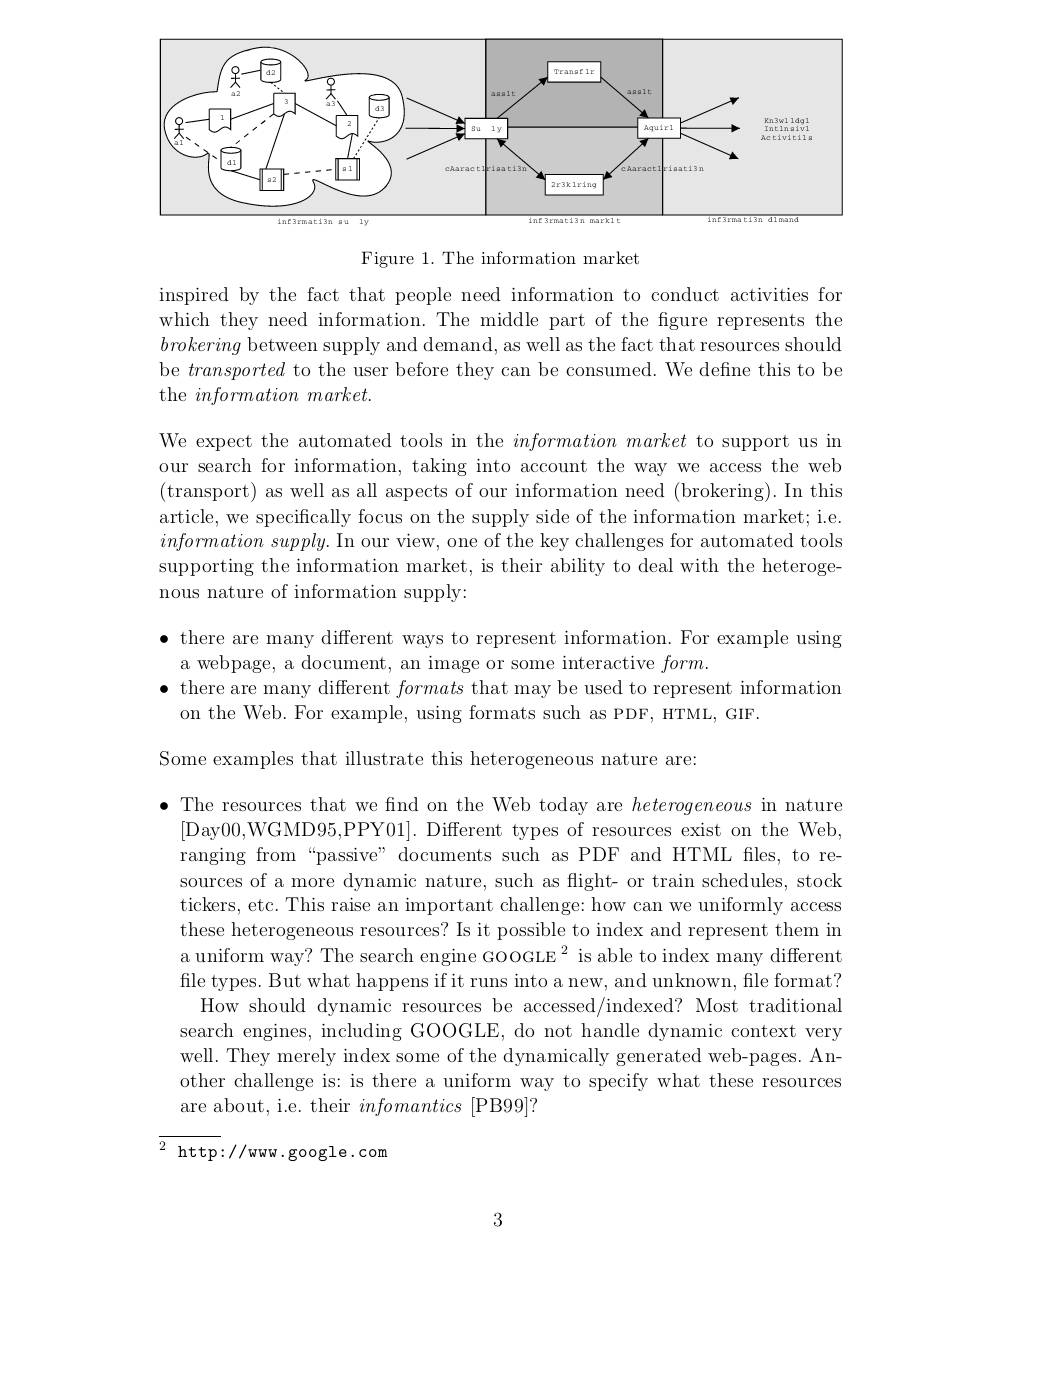figure: (159, 37, 841, 226)
